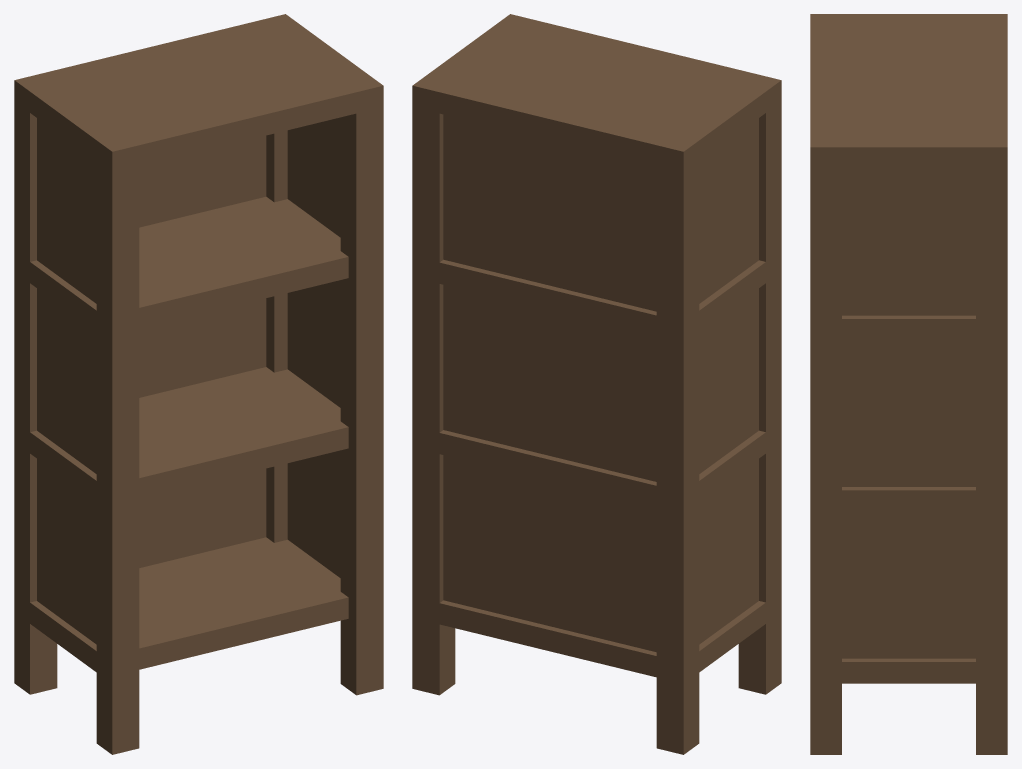
The model's file is bookcaseClosed.glb.
The picture shows the model from 3 angles, left to right: view 1: azimuth 30°, elevation 25°; view 2: azimuth 150°, elevation 25°; view 3: azimuth 270°, elevation 25°; orthographic projection.
Parts seen in each view (by area): view 1: bookcaseClosed(Clone); view 2: bookcaseClosed(Clone); view 3: bookcaseClosed(Clone).
Boxes of the visible parts, x1=… form: bookcaseClosed(Clone): x1=14, y1=14, x2=383, y2=754; bookcaseClosed(Clone): x1=412, y1=14, x2=781, y2=754; bookcaseClosed(Clone): x1=810, y1=14, x2=1007, y2=754.
Size of the model in its own units: 0.4 by 0.85 by 0.25.
